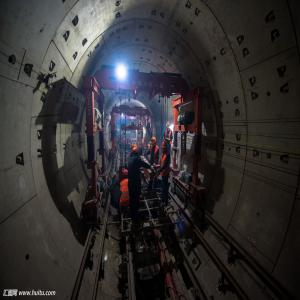red: (163, 141, 169, 152), (123, 170, 129, 179)
yellow: (132, 147, 140, 157), (152, 137, 157, 147), (167, 122, 171, 130), (148, 144, 151, 151)
